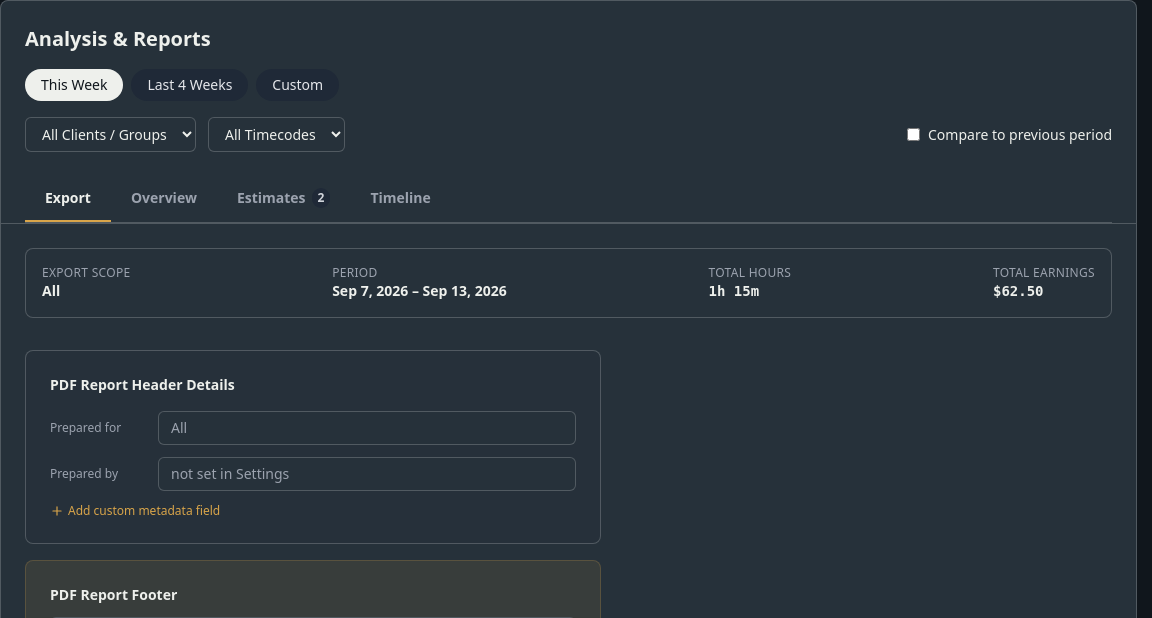
Test: AnalysisView Redesign Tabs & Metrics › handles clearing custom date inputs without crashing and displays fallback warning
The image size is (1152, 618).
Click the button "Custom" at (298, 85), box x1=256 y1=69 x2=339 y2=101
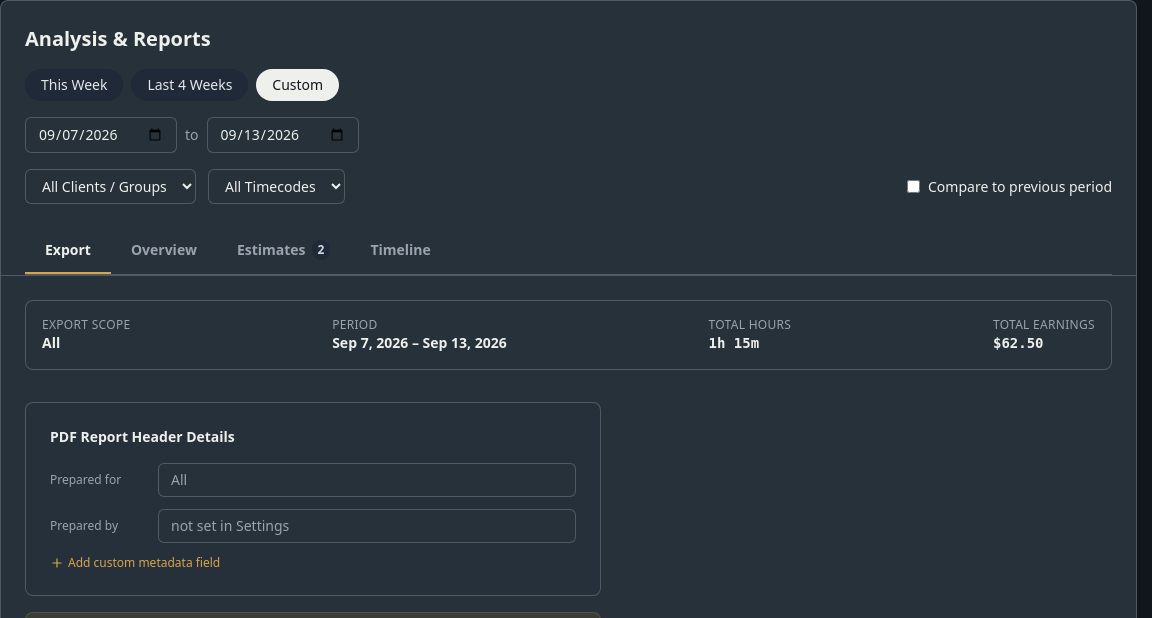
Expected: the number of date fields is 2
Clear start date
Clear the 1st date field at (101, 135), box x1=25 y1=117 x2=177 y2=153
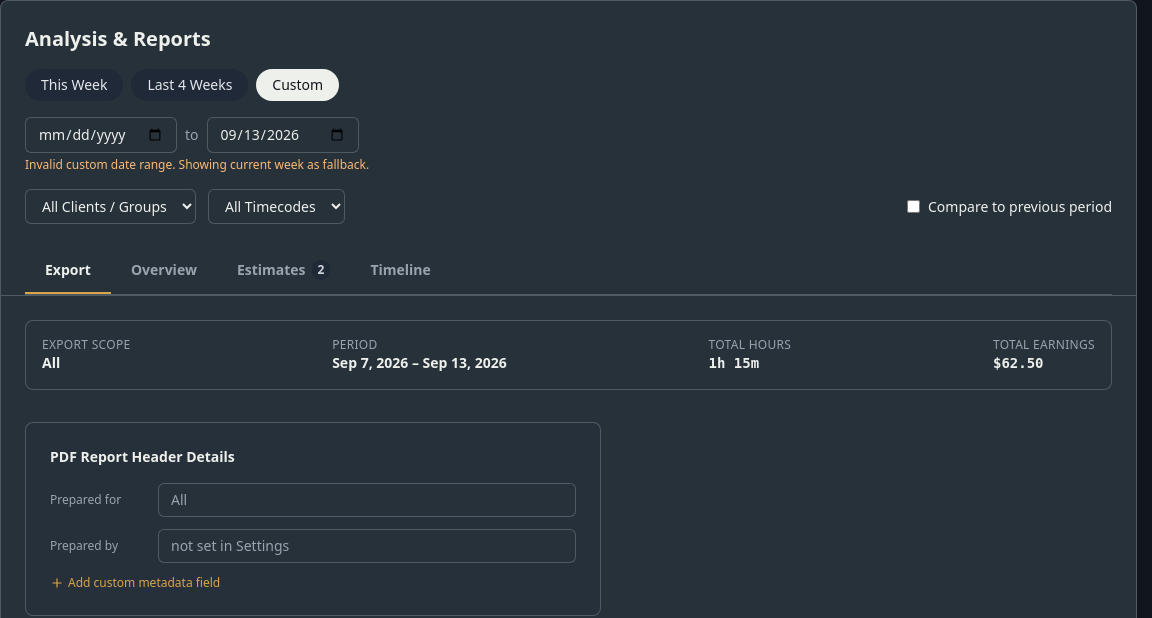
Expected: the text "Invalid custom date range. Showing current week as fallback." is shown, x1=25 y1=156 x2=369 y2=173
